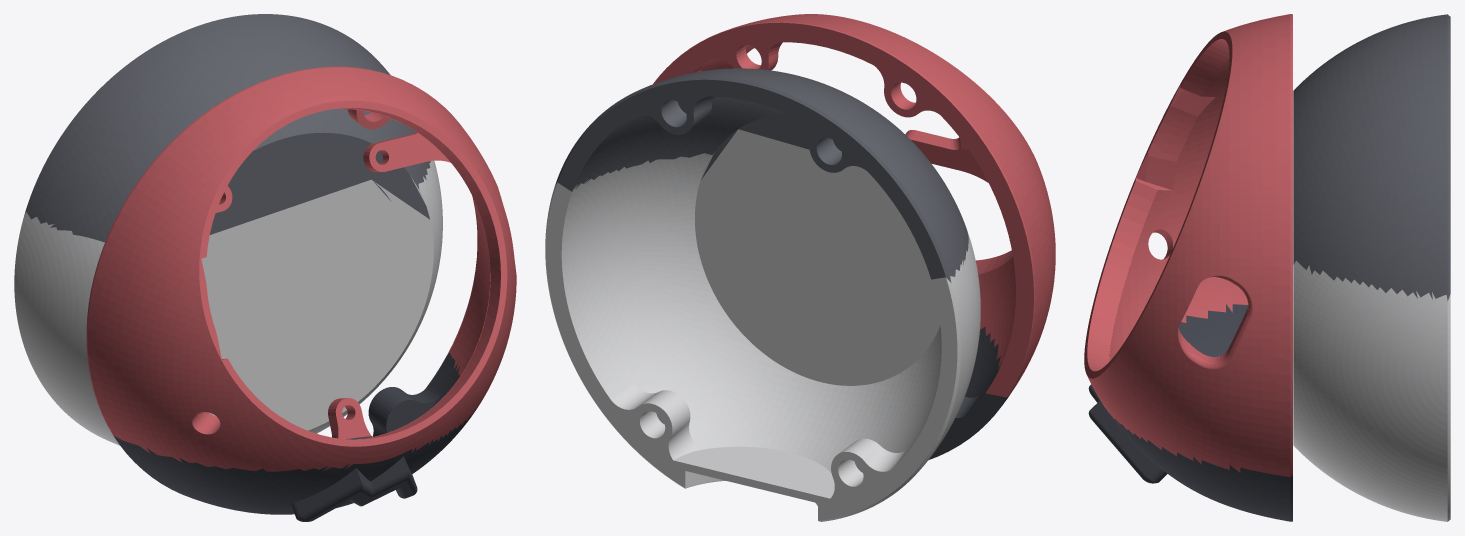
The model's file is poketama-poke.glb.
3 views of the same model, side by side, from view 1: azimuth 30°, elevation 25°; view 2: azimuth 150°, elevation 25°; view 3: azimuth 270°, elevation 25° (orthographic). The views are drawn at different scales.
Size of the model in its own units: 1.99 by 1.93 by 1.43.
